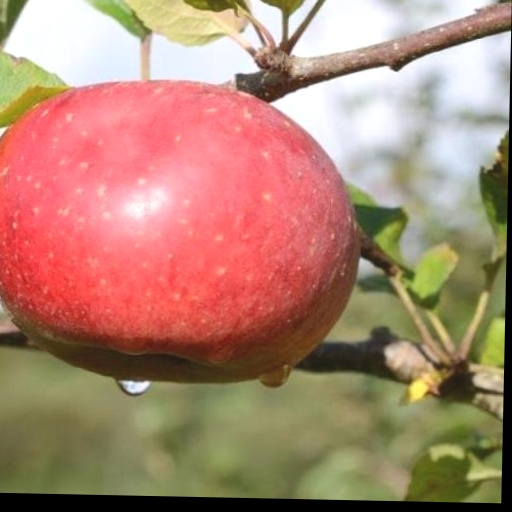fruit: (0, 82, 359, 384)
